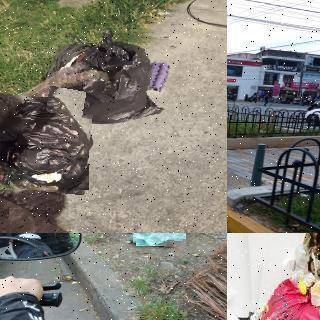Garbage: (48, 26, 179, 128), (0, 94, 91, 192), (239, 267, 320, 320), (134, 233, 187, 247)
